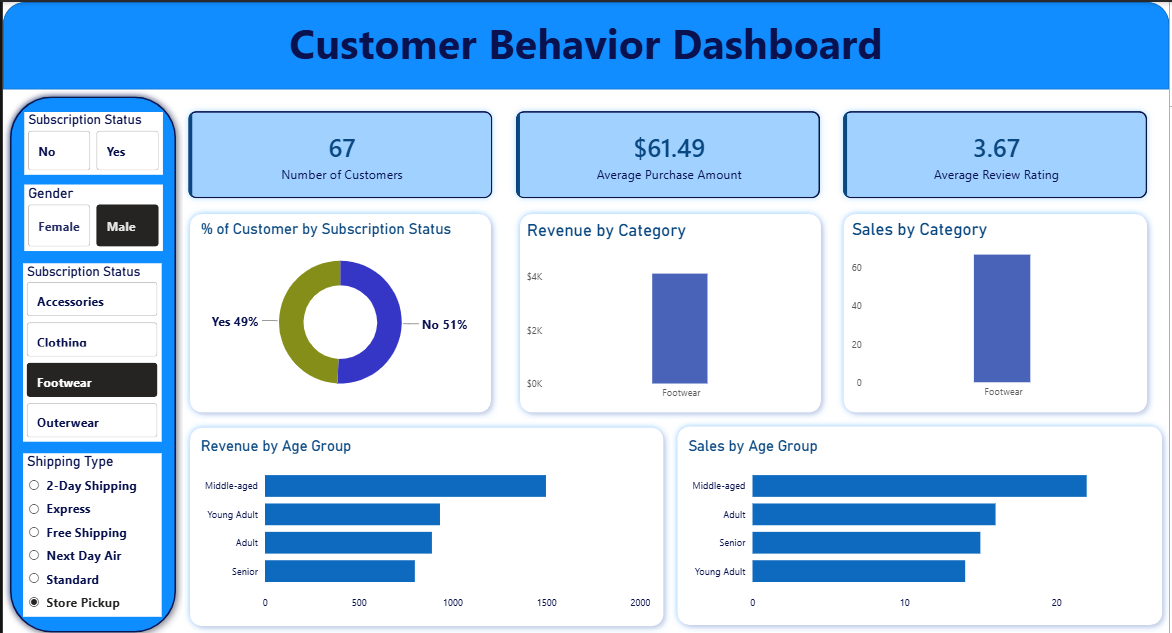

This screenshot's page, from the dashboard's own definition file:
{"tool":"powerbi","page":{"name":"Page 1","canvas":[1500,820],"ordinal":0},"visuals":[{"type":"cardVisual","fields":{"Data":["public customer.Number of Customers","public customer.Average Purchase Amount","public customer.Average Review Rating"]},"box":[210.7,112.6,1289.7,168.8],"z":0},{"type":"shape","box":[0,0,1500.3,112.6],"z":1000},{"type":"textbox","box":[0,11.3,1500.3,101.3],"z":2000},{"type":"shape","box":[231.6,263.7,405.2,273.4],"z":3000},{"type":"donutChart","title":"% of Customer by Subscription Status","fields":{"Category":["public customer.subscription_status"],"Y":["CountNonNull(public customer.customer_id)"]},"box":[249.3,281.4,369.9,239.6],"z":4000},{"type":"shape","box":[656.1,263.7,405.2,273.4],"z":5000},{"type":"shape","box":[1072.6,263.7,408.4,273.4],"z":6000},{"type":"clusteredColumnChart","title":"Revenue by Category","fields":{"Y":["Sum(public customer.purchase_amount)"],"Category":["public customer.category"]},"box":[669,281.4,377.9,239.6],"z":7000},{"type":"clusteredColumnChart","title":"Sales by Category","fields":{"Category":["public customer.category"],"Y":["CountNonNull(public customer.customer_id)"]},"box":[1087.1,279.8,377.9,239.6],"z":8000},{"type":"shape","box":[0,112.6,231.6,707.5],"z":9000},{"type":"advancedSlicerVisual","title":"Subscription Status","fields":{"Values":["public customer.subscription_status"]},"box":[27.3,141.5,178.5,80.4],"z":10000},{"type":"advancedSlicerVisual","title":"Gender","fields":{"Values":["public customer.gender"]},"box":[27.3,234.8,178.5,85.2],"z":11000},{"type":"advancedSlicerVisual","title":"Subscription Status","fields":{"Values":["public customer.category"]},"box":[25.7,336.1,178.5,230],"z":12000},{"type":"listSlicer","title":"Shipping Type","fields":{"Values":["public customer.shipping_type"]},"box":[25.7,580.5,178.5,210.7],"z":13000},{"type":"clusteredBarChart","title":"Revenue by Age Group","fields":{"Category":["public customer.age_groups"],"Y":["Sum(public customer.purchase_amount)"]},"box":[249.3,558,588.6,231.6],"z":14000},{"type":"shape","box":[231.6,538.7,627.1,273.4],"z":15000},{"type":"shape","box":[858.7,537.1,641.6,273.4],"z":15001},{"type":"clusteredBarChart","title":"Sales by Age Group","fields":{"Category":["public customer.age_groups"],"Y":["CountNonNull(public customer.customer_id)"]},"box":[876.4,559.6,588.6,231.6],"z":15002},{"type":"clusteredBarChart","title":"Revenue by Age Group","fields":{"Category":["public customer.age_groups"],"Y":["Sum(public customer.purchase_amount)"]},"box":[249.3,559.6,588.6,231.6],"z":15003}]}

Visuals, with their boxes in screenshot pixels (x1, y1, x2, y2), scaled from the page's 1500x820 canvas onto the 1172x633 screenshot:
cardVisual - public customer.Number of Customers x public customer.Average Purchase Amount: BBox(165, 87, 1171, 217)
shape: BBox(0, 0, 1171, 87)
textbox: BBox(0, 9, 1171, 87)
shape: BBox(181, 204, 498, 415)
"% of Customer by Subscription Status" donutChart: BBox(195, 217, 484, 402)
shape: BBox(513, 204, 829, 415)
shape: BBox(838, 204, 1157, 415)
"Revenue by Category" clusteredColumnChart: BBox(523, 217, 818, 402)
"Sales by Category" clusteredColumnChart: BBox(849, 216, 1145, 401)
shape: BBox(0, 87, 181, 632)
"Subscription Status" advancedSlicerVisual: BBox(21, 109, 161, 171)
"Gender" advancedSlicerVisual: BBox(21, 181, 161, 247)
"Subscription Status" advancedSlicerVisual: BBox(20, 259, 160, 437)
"Shipping Type" listSlicer: BBox(20, 448, 160, 611)
"Revenue by Age Group" clusteredBarChart: BBox(195, 431, 655, 610)
shape: BBox(181, 416, 671, 627)
shape: BBox(671, 415, 1171, 626)
"Sales by Age Group" clusteredBarChart: BBox(685, 432, 1145, 611)
"Revenue by Age Group" clusteredBarChart: BBox(195, 432, 655, 611)
